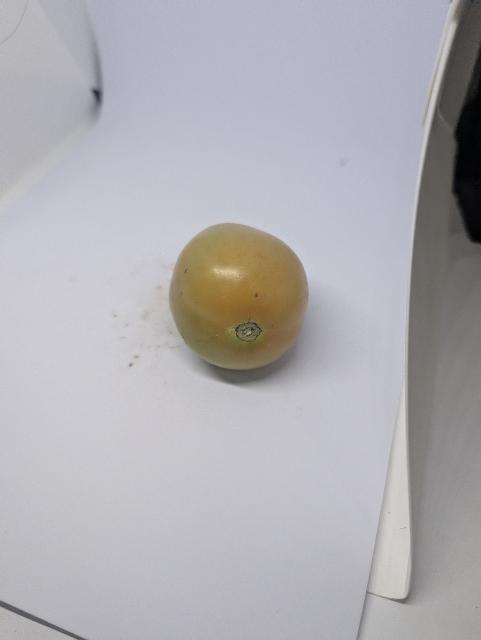breaker: (166, 217, 313, 375)
